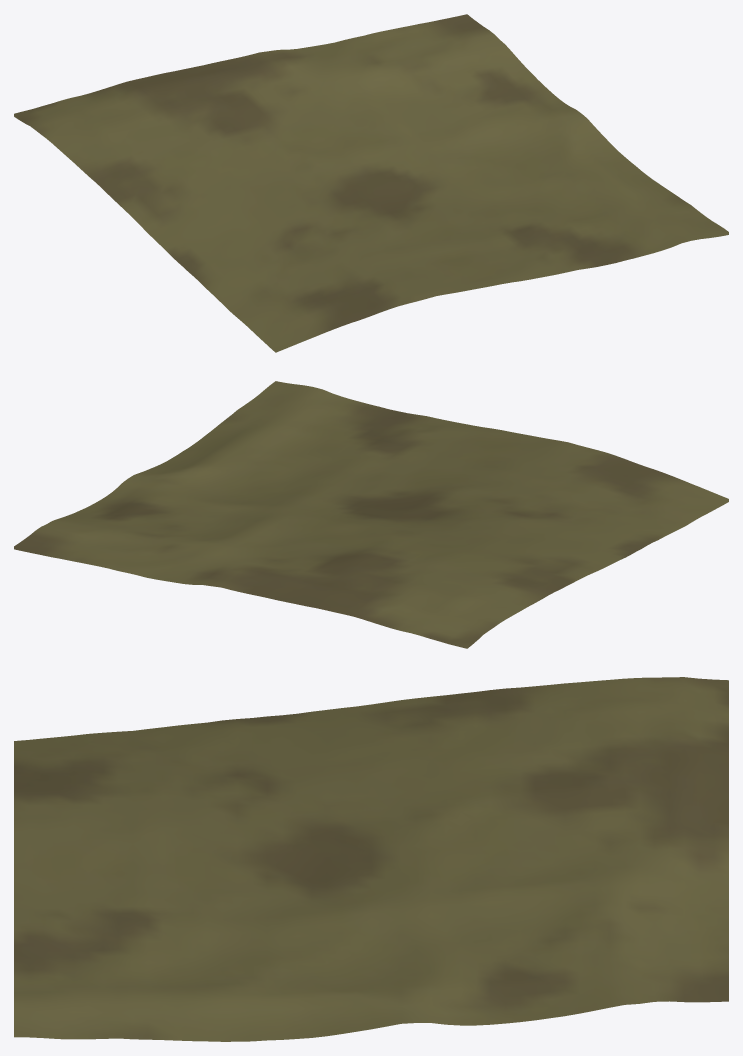
The model's file is land_m_10_02.glb.
3 views of the same model, one above another, from view 1: azimuth 30°, elevation 25°; view 2: azimuth 150°, elevation 25°; view 3: azimuth 270°, elevation 25° (orthographic). The views are drawn at different scales.
Parts seen in each view (by area): view 1: land_m_10_02; view 2: land_m_10_02; view 3: land_m_10_02.
Boxes of the visible parts, x1,y1,x2,y2 form: land_m_10_02: (14,14,728,352); land_m_10_02: (14,381,728,648); land_m_10_02: (14,677,728,1041).
Bounding box in the file's own units: 960 × 110 × 960.
